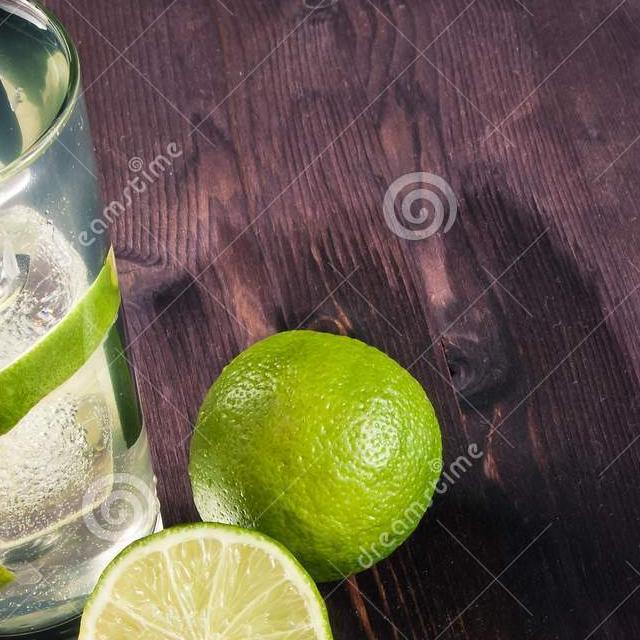lime: (169, 316, 447, 594)
